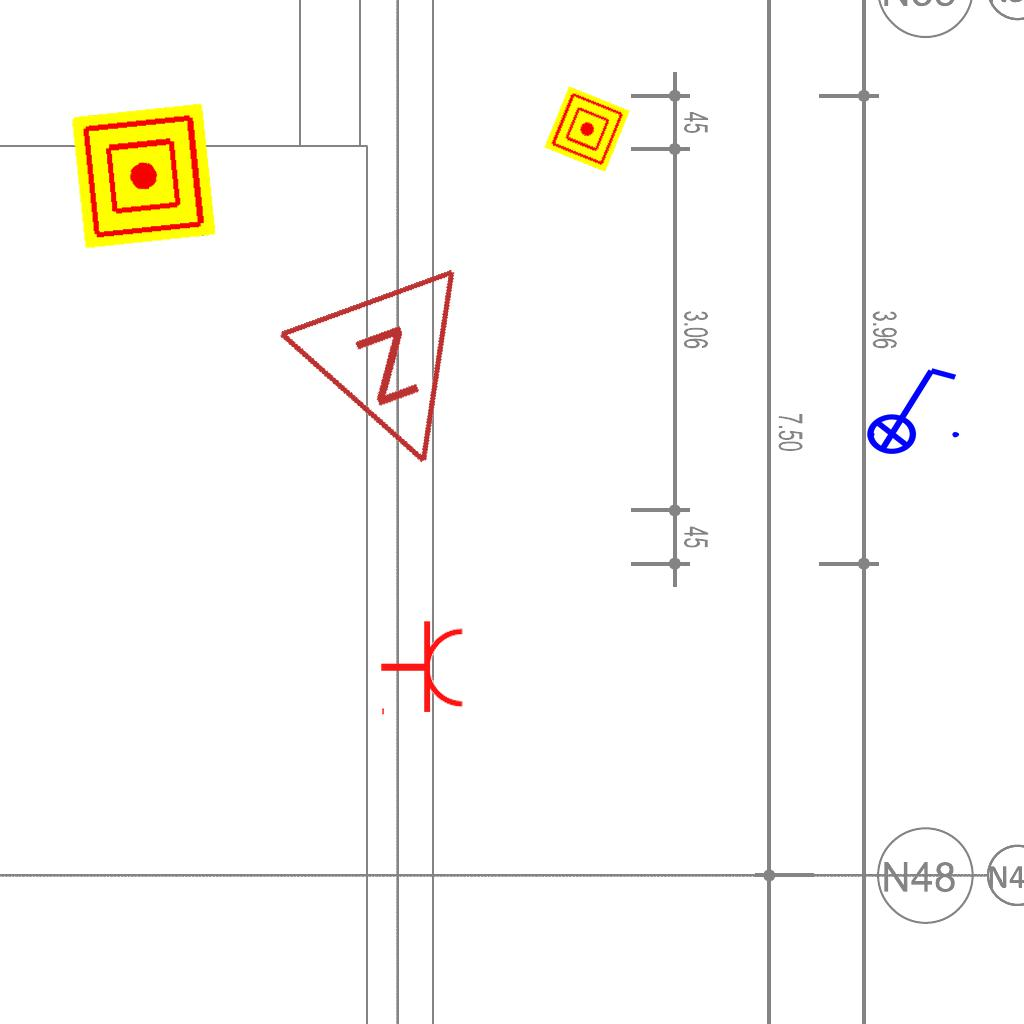Ausschalter_beleuchtet: (853, 360, 965, 456)
NAM-Nichtautomatischer_Melder: (71, 103, 217, 249), (544, 86, 630, 172)
Schukosteckdose_einfach: (379, 619, 466, 719)
Zimmersignalleuchte: (270, 252, 524, 508)
